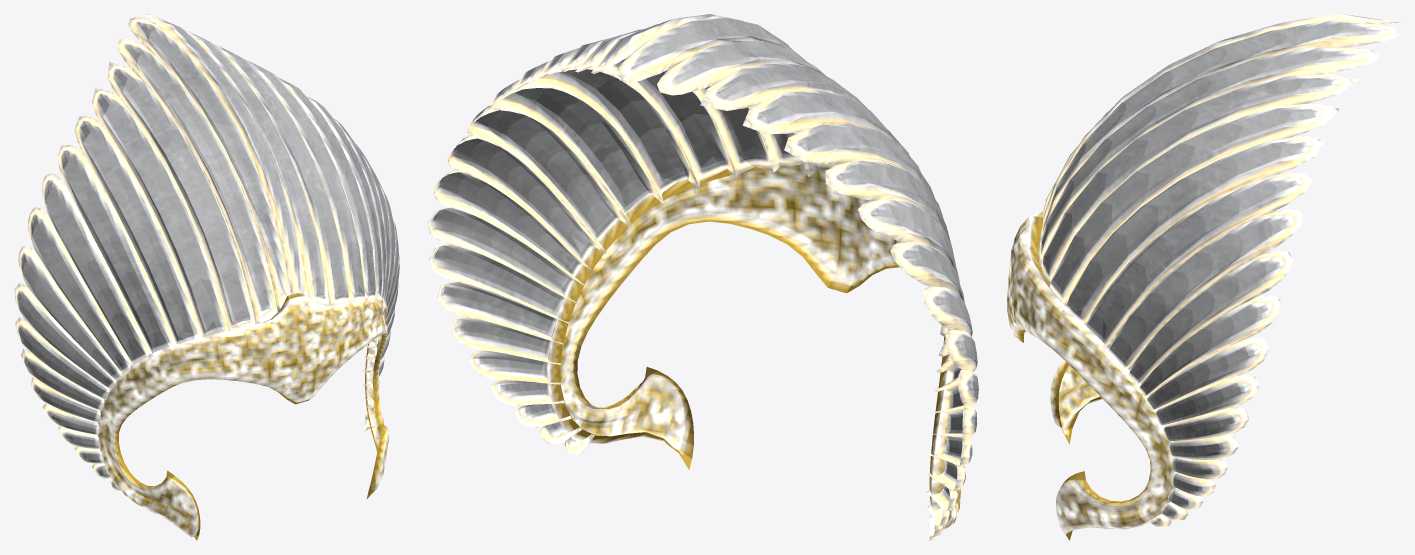
The model's file is crown.glb.
The picture shows the model from 3 angles, left to right: view 1: azimuth 30°, elevation 25°; view 2: azimuth 150°, elevation 25°; view 3: azimuth 270°, elevation 25°; orthographic projection. The views are drawn at different scales.
Parts seen in each view (by area): view 1: angelic_mask; view 2: angelic_mask; view 3: angelic_mask.
Boxes of the visible parts, x1=… form: angelic_mask: x1=14, y1=14, x2=399, y2=540; angelic_mask: x1=428, y1=14, x2=978, y2=540; angelic_mask: x1=1007, y1=14, x2=1400, y2=540.
Size of the model in its own units: 0.2948 by 0.3061 by 0.2299.
Materials: 2 (2 with a texture image).
